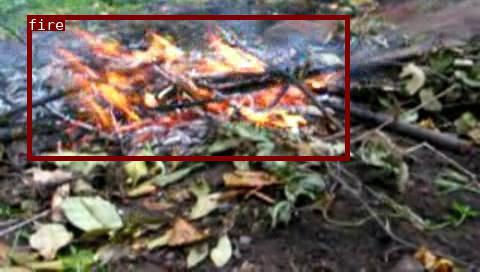fire: (27, 15, 349, 159)
